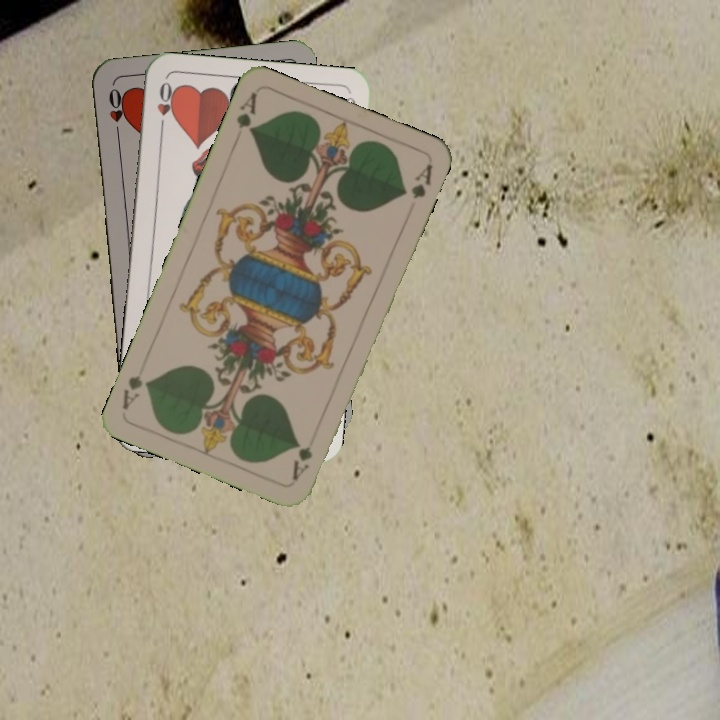GA: (288, 427, 320, 483), (232, 89, 260, 136)
HO: (153, 78, 178, 136), (104, 84, 127, 143)
